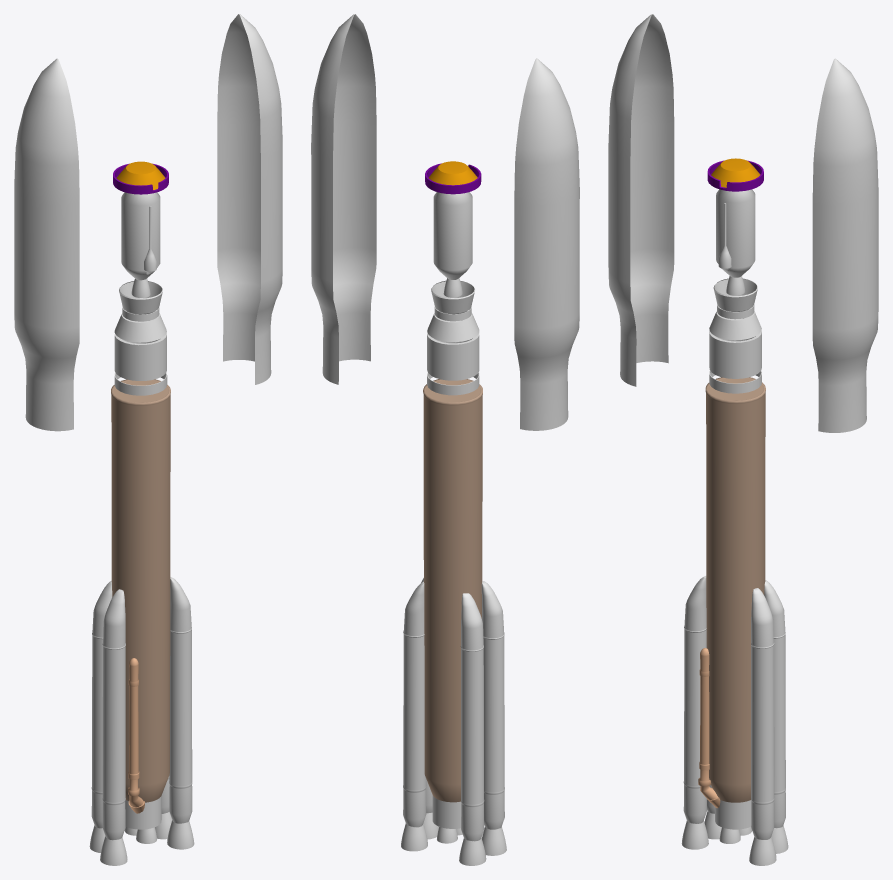
Rendered from atas.fbx.
The picture shows the model from 3 angles, left to right: view 1: azimuth 30°, elevation 25°; view 2: azimuth 150°, elevation 25°; view 3: azimuth 330°, elevation 25°; orthographic projection.
Parts seen in each view (by area): view 1: Rocket_Shell_Geo_01, Stage_01_Rocket_Base_Geo, Rocket_Shell_Geo_02, Rocker_Booster_Geo_01, Rocker_Booster_Geo_02, Centaur_Rocket_Geo, Rocker_Booster_Geo_03, Rocket_Part_Geo_02, Payload_Geo1, Stage_01_Part_Geo_01, Rocket_Part_Geo_03, Rocket_Part_Geo_05 (+4 smaller); view 2: Rocket_Shell_Geo_01, Rocket_Shell_Geo_02, Stage_01_Rocket_Base_Geo, Rocker_Booster_Geo_03, Rocker_Booster_Geo_04, Rocker_Booster_Geo_01, Centaur_Rocket_Geo, Rocket_Part_Geo_02, Payload_Geo1, Rocket_Part_Geo_03, Rocket_Part_Geo_05, Stage_01_Engine_Part_Geo (+4 smaller); view 3: Stage_01_Rocket_Base_Geo, Rocket_Shell_Geo_02, Rocket_Shell_Geo_01, Rocker_Booster_Geo_02, Rocker_Booster_Geo_01, Centaur_Rocket_Geo, Rocker_Booster_Geo_04, Rocket_Part_Geo_02, Payload_Geo1, Stage_01_Part_Geo_01, Rocket_Part_Geo_03, Rocket_Part_Geo_05 (+4 smaller).
Boxes of the visible parts, <box> form: Rocket_Shell_Geo_01: <box>14,58,79,431</box>; Stage_01_Rocket_Base_Geo: <box>111,379,170,802</box>; Rocket_Shell_Geo_02: <box>217,14,282,384</box>; Rocker_Booster_Geo_01: <box>102,589,125,840</box>; Rocker_Booster_Geo_02: <box>169,577,192,823</box>; Centaur_Rocket_Geo: <box>121,192,160,280</box>; Rocker_Booster_Geo_03: <box>91,581,112,828</box>; Rocket_Part_Geo_02: <box>114,333,166,380</box>; Payload_Geo1: <box>113,161,168,194</box>; Stage_01_Part_Geo_01: <box>128,658,139,779</box>; Rocket_Part_Geo_03: <box>114,310,166,342</box>; Rocket_Part_Geo_05: <box>119,281,162,313</box>; Rocket_Shell_Geo_01: <box>514,58,579,430</box>; Rocket_Shell_Geo_02: <box>311,14,376,384</box>; Stage_01_Rocket_Base_Geo: <box>423,379,482,802</box>; Rocker_Booster_Geo_03: <box>460,593,484,841</box>; Rocker_Booster_Geo_04: <box>403,581,426,827</box>; Rocker_Booster_Geo_01: <box>481,581,504,829</box>; Centaur_Rocket_Geo: <box>433,192,472,279</box>; Rocket_Part_Geo_02: <box>427,332,479,380</box>; Payload_Geo1: <box>425,161,481,194</box>; Rocket_Part_Geo_03: <box>427,310,479,342</box>; Rocket_Part_Geo_05: <box>431,280,474,313</box>; Stage_01_Engine_Part_Geo: <box>432,795,461,828</box>; Stage_01_Rocket_Base_Geo: <box>705,377,765,802</box>; Rocket_Shell_Geo_02: <box>812,58,878,432</box>; Rocket_Shell_Geo_01: <box>608,14,674,386</box>; Rocker_Booster_Geo_02: <box>751,588,774,839</box>; Rocker_Booster_Geo_01: <box>683,576,706,823</box>; Centaur_Rocket_Geo: <box>716,189,755,277</box>; Rocker_Booster_Geo_04: <box>764,580,785,828</box>; Rocket_Part_Geo_02: <box>709,330,761,378</box>; Payload_Geo1: <box>707,158,763,191</box>; Stage_01_Part_Geo_01: <box>699,648,709,770</box>; Rocket_Part_Geo_03: <box>709,308,761,340</box>; Rocket_Part_Geo_05: <box>713,278,757,311</box>.
Size of the model in its own units: 5.22 by 15.69 by 1.54.
